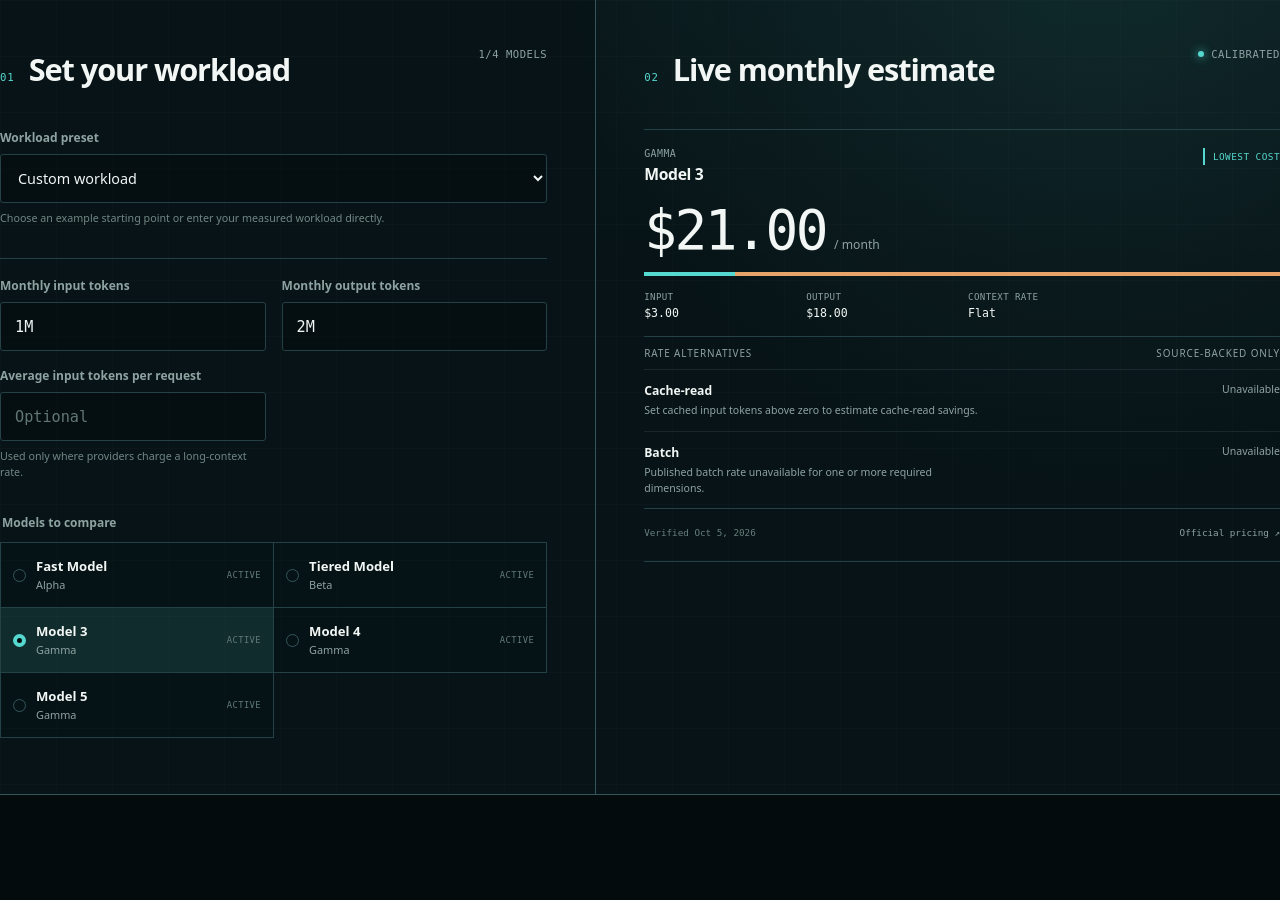
Test: Calculator › shows cached input only when a selected model supports cache reads
Click the checkbox labelled "Fast Model Alpha active": (20, 575) [13,569,26,582]
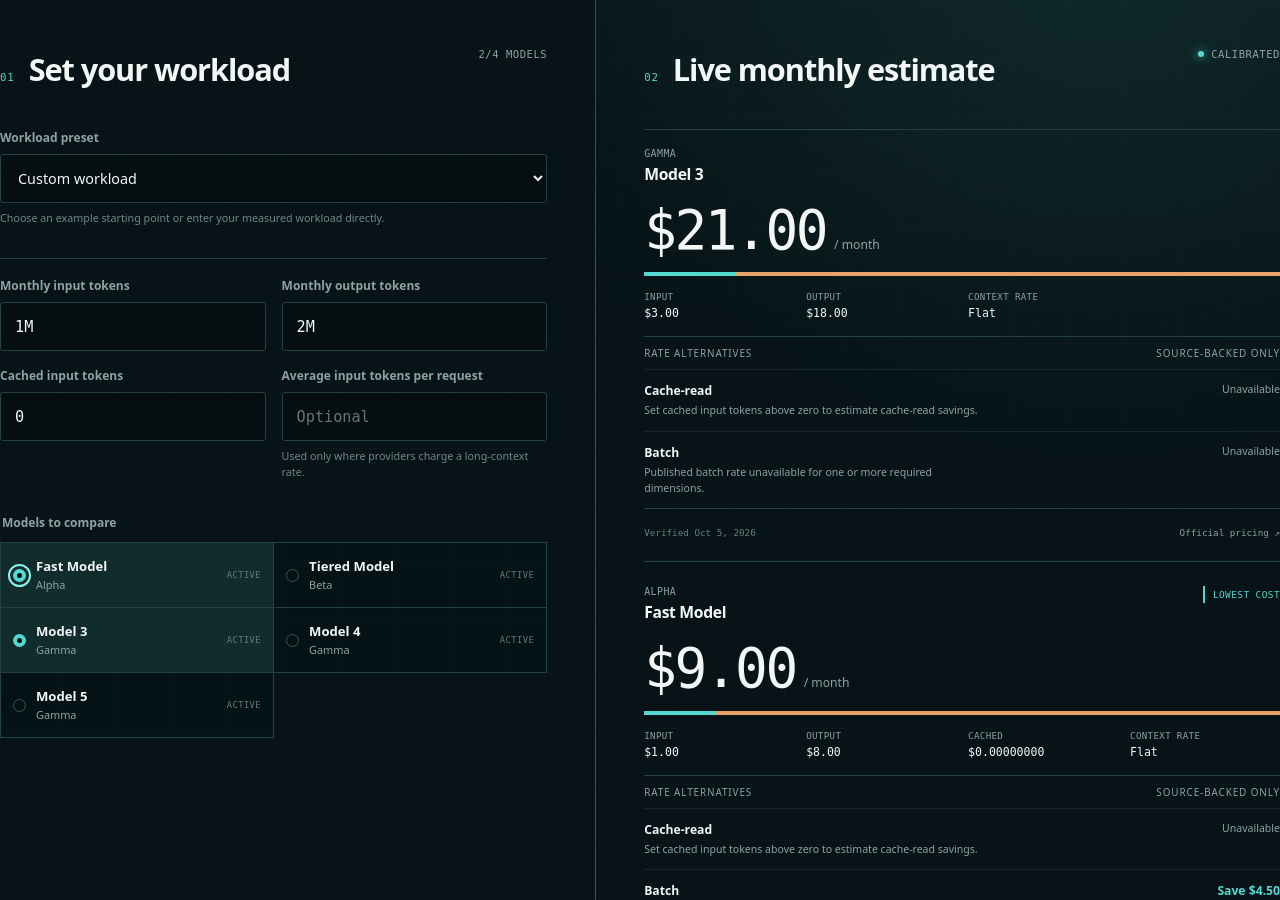
Expected: the field labelled "Cached input tokens" is shown, [0,392,266,441]
